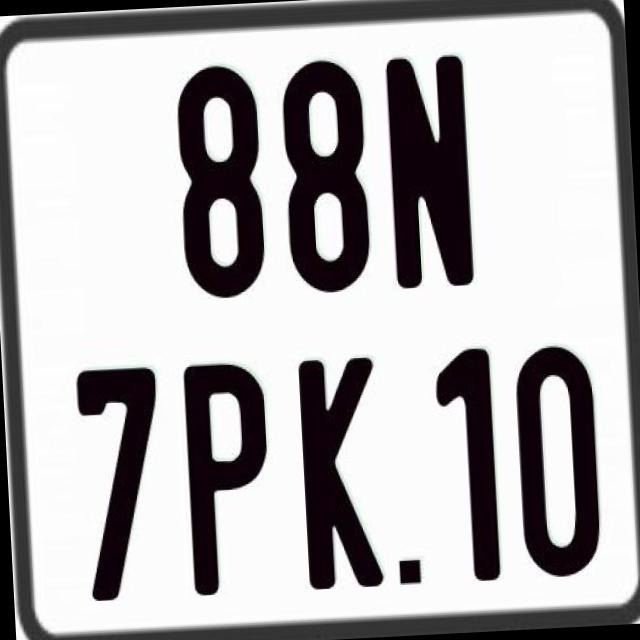0: (512, 339, 604, 582)
1: (432, 344, 503, 582)
7: (71, 363, 170, 600)
8: (172, 62, 273, 308), (276, 58, 370, 294)
K: (296, 355, 391, 598)
N: (383, 52, 473, 296)
P: (179, 357, 274, 596)
